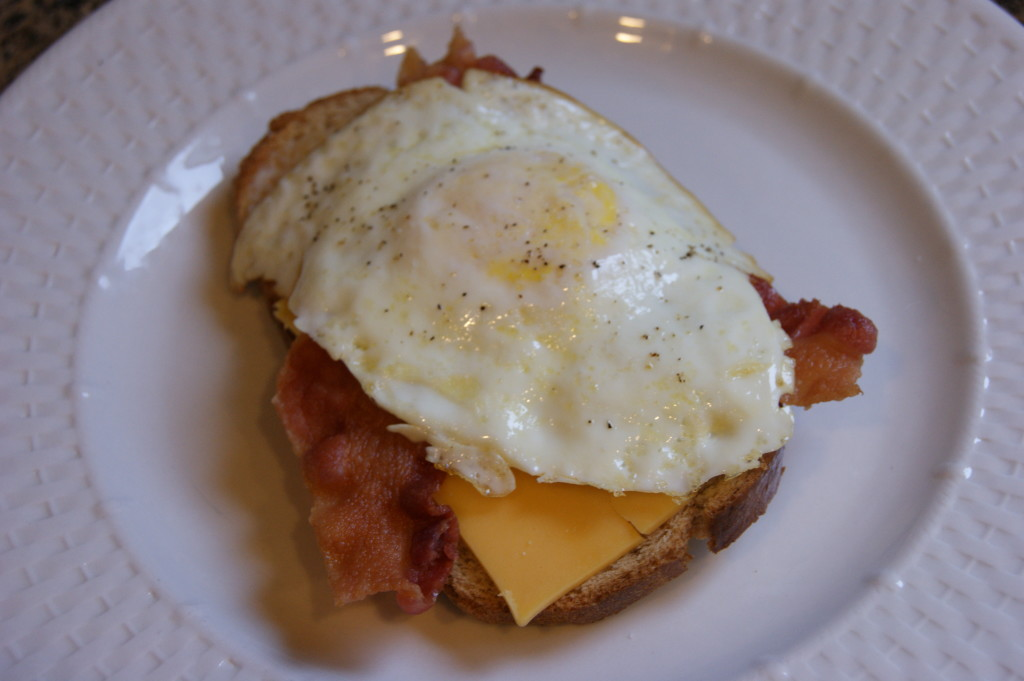fried_eggs: (225, 59, 800, 485)
